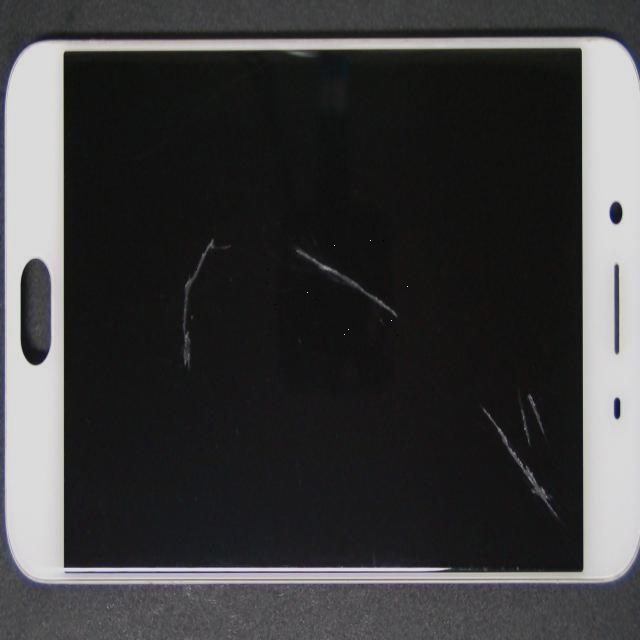scratch: (181, 174, 640, 640), (277, 163, 640, 561), (68, 78, 468, 419), (89, 86, 268, 490)
